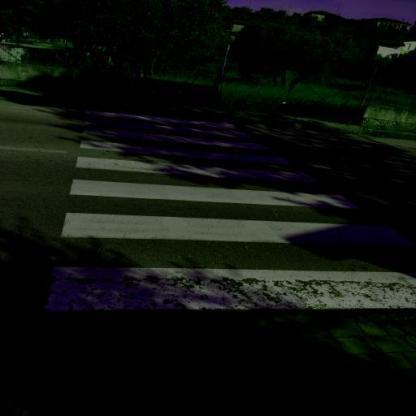crosswalk: (36, 209, 413, 314), (70, 137, 328, 186)
